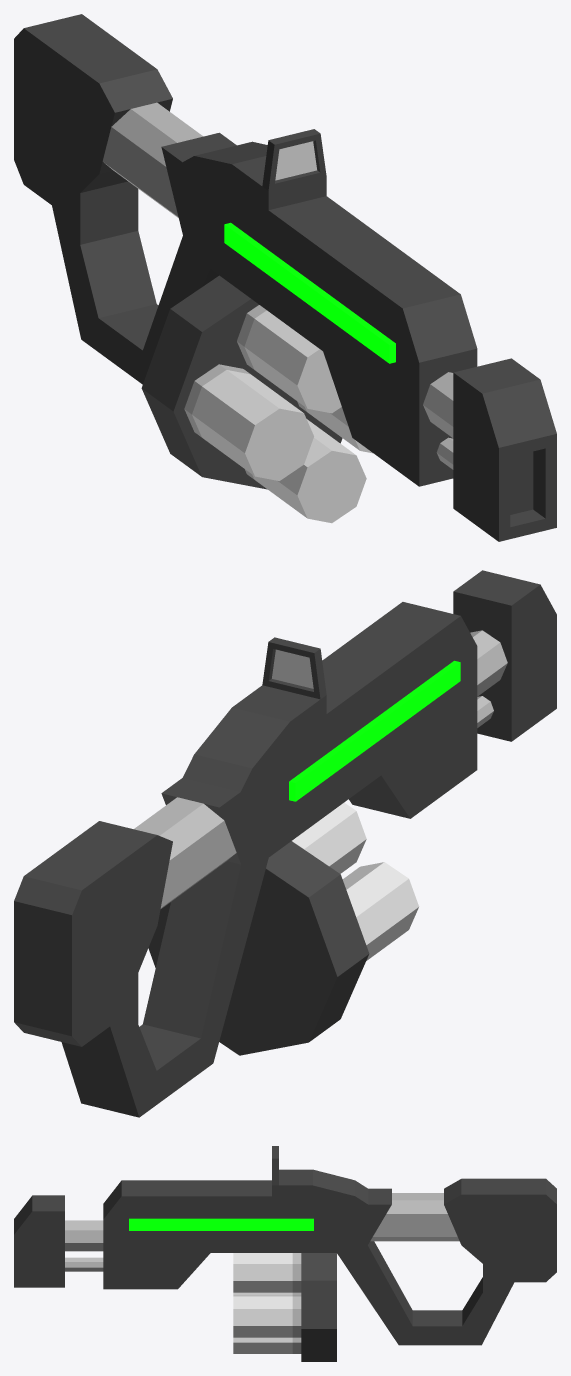
File: chem-gun.fbx
3 views of the same model, one above another, from view 1: azimuth 30°, elevation 25°; view 2: azimuth 150°, elevation 25°; view 3: azimuth 270°, elevation 25° (orthographic). The views are drawn at different scales.
Visible parts, largest first — view 1: chem-gun; view 2: chem-gun; view 3: chem-gun.
Part boxes in pixels (x1,y1,x2,y2): chem-gun: (14,14,556,541); chem-gun: (14,570,556,1117); chem-gun: (14,1146,556,1361).
Size of the model in its own units: 0.3859 by 0.6967 by 1.65.
